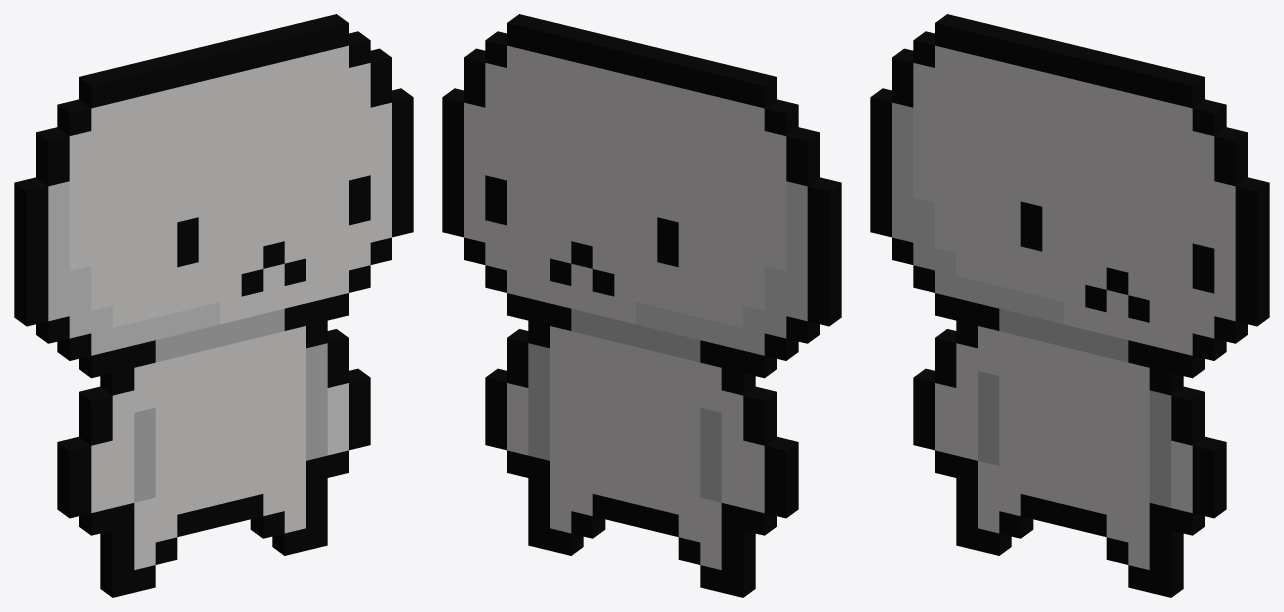
3 views of the same model, side by side, from view 1: azimuth 30°, elevation 25°; view 2: azimuth 150°, elevation 25°; view 3: azimuth 330°, elevation 25° (orthographic).
Parts seen in each view (by area): view 1: Test; view 2: Test; view 3: Test.
Boxes of the visible parts, box(x1,y1,x2,y2) form: Test: box(14, 14, 413, 597); Test: box(442, 14, 841, 597); Test: box(870, 14, 1269, 597).
Bounding box in the file's own units: 1.8 × 2.3 × 0.1.
Materials: 1 (1 with a texture image).
